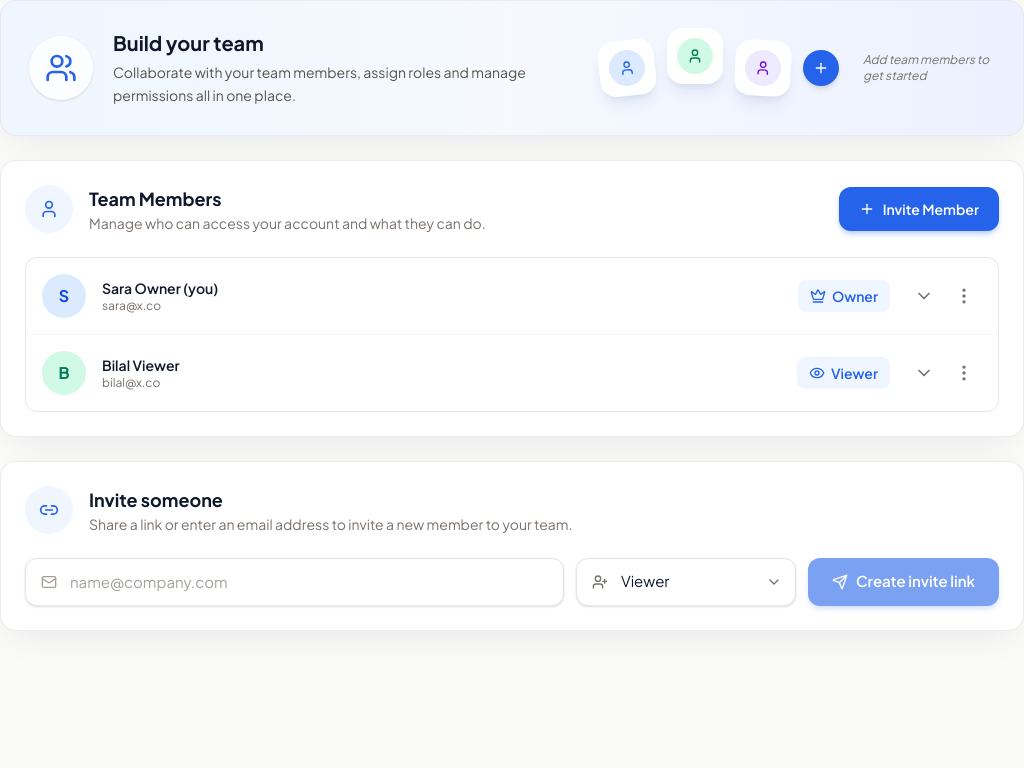
Test case: TeamPanel › says so when email isn't set up
In the field named "Invite email": (294, 582) [25,558,564,606], type "a@x.co"
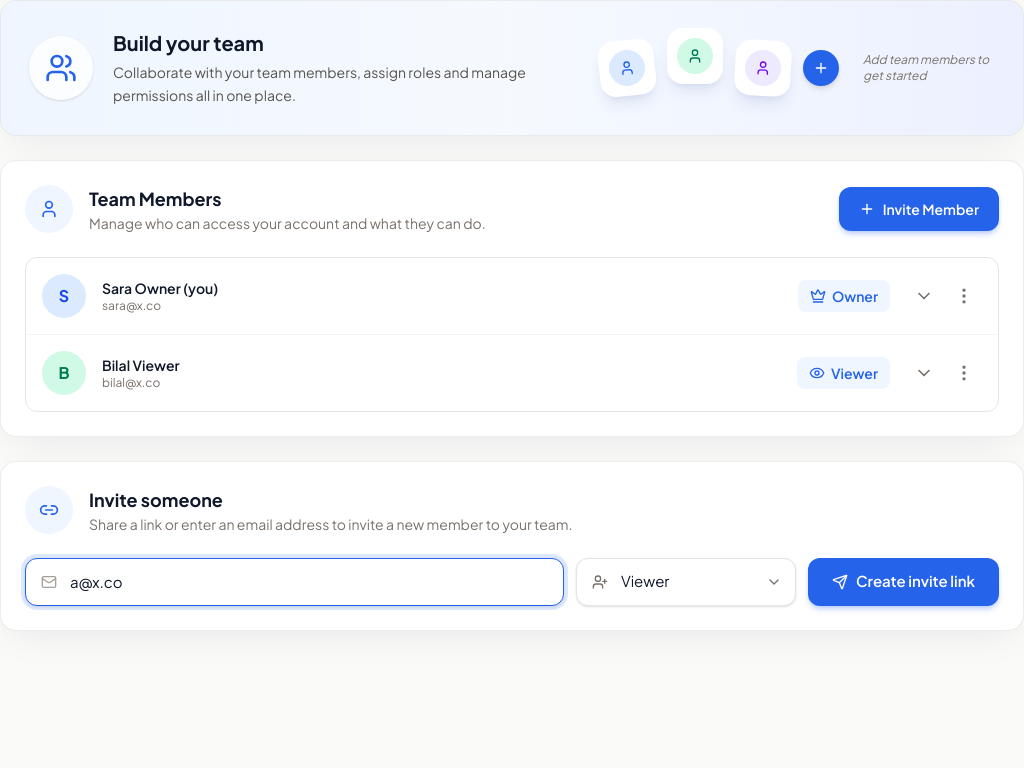
Click the button "Create invite link": (903, 582) [808,558,999,606]
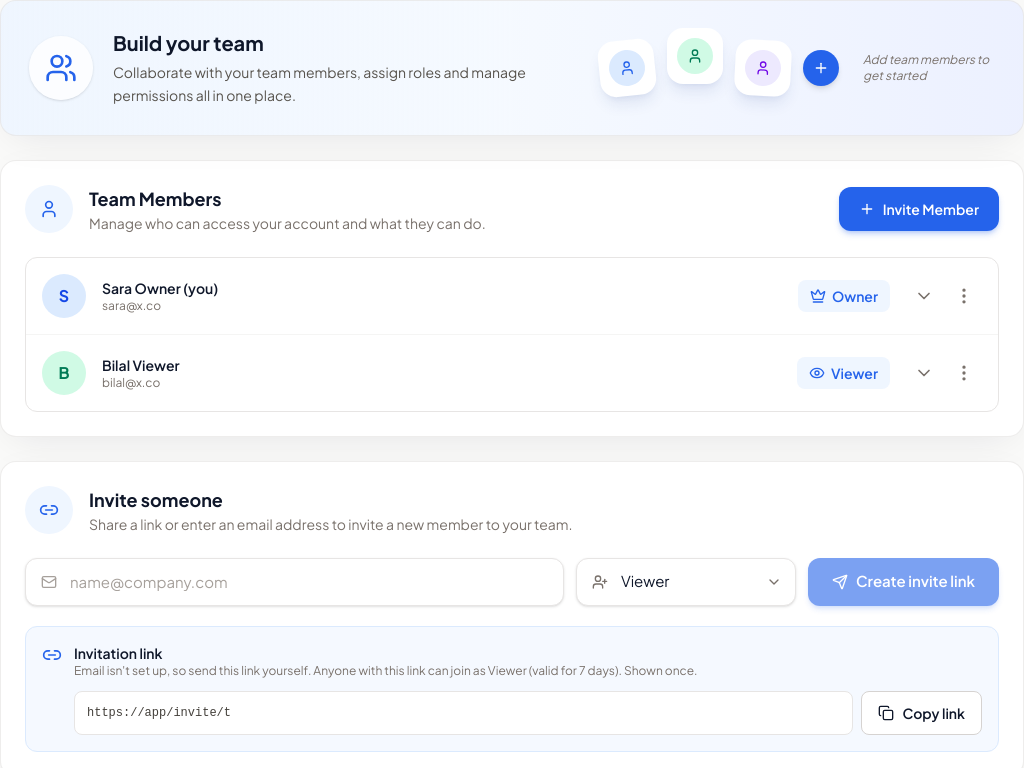
Expected: the text "Email isn't set up" is shown, [74,662,313,678]
